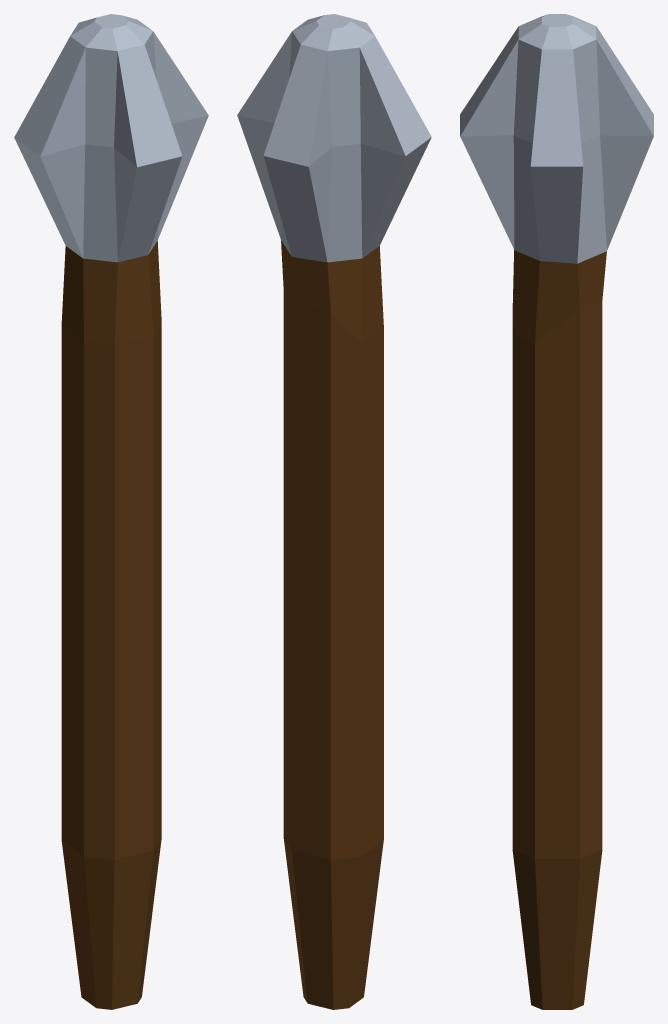
Rendered from SteelMace.glb.
3 renders of one model, left to right at view 1: azimuth 30°, elevation 25°; view 2: azimuth 150°, elevation 25°; view 3: azimuth 270°, elevation 25°, orthographic.
Visible parts, largest first — view 1: Mace; view 2: Mace; view 3: Mace.
Boxes of the visible parts, x1=… form: Mace: x1=14, y1=14, x2=208, y2=1009; Mace: x1=237, y1=14, x2=431, y2=1009; Mace: x1=460, y1=14, x2=653, y2=1009.
Bounding box in the file's own units: 0.1021 × 0.5647 × 0.1013.
